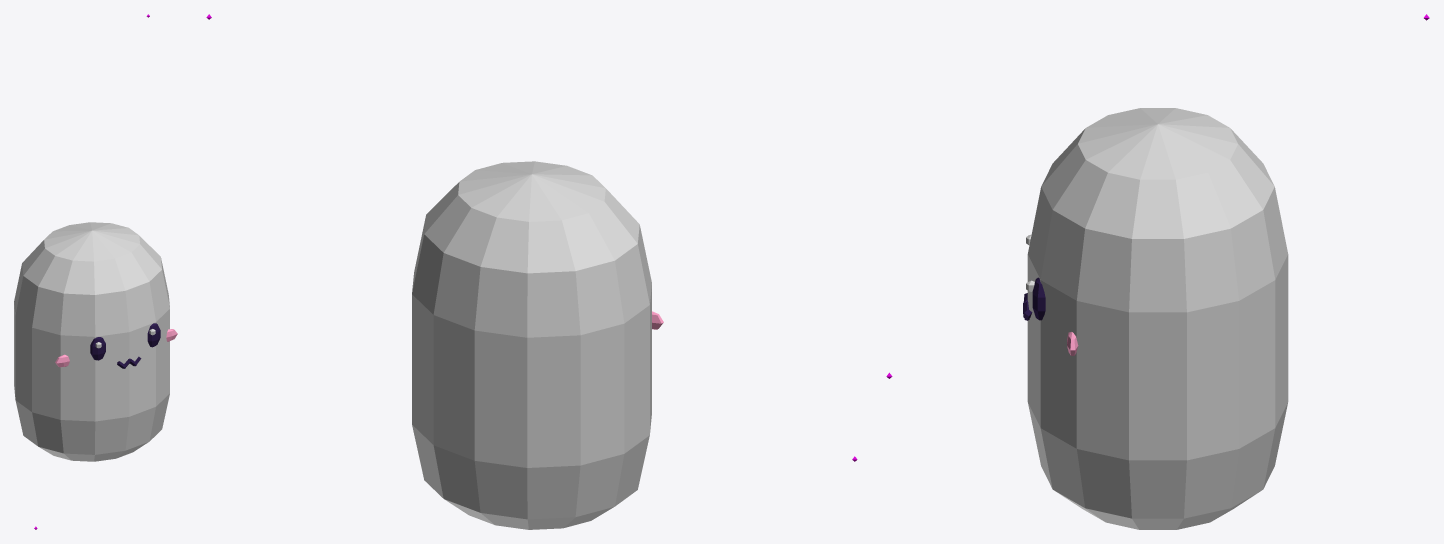
Rendered from body_bean.fbx.
3 renders of one model, left to right at view 1: azimuth 30°, elevation 25°; view 2: azimuth 150°, elevation 25°; view 3: azimuth 270°, elevation 25°, orthographic. The views are drawn at different scales.
Visible parts, largest first — view 1: Body, Eyes, Blush; view 2: Body; view 3: Body.
Part boxes in pixels (x1,y1,x2,y2): Body: (14, 222, 169, 461); Eyes: (90, 323, 160, 360); Blush: (55, 329, 177, 367); Body: (412, 161, 651, 529); Body: (1027, 108, 1288, 529).
Bounding box in the file's own units: 2.99 × 3.6 × 2.99.
